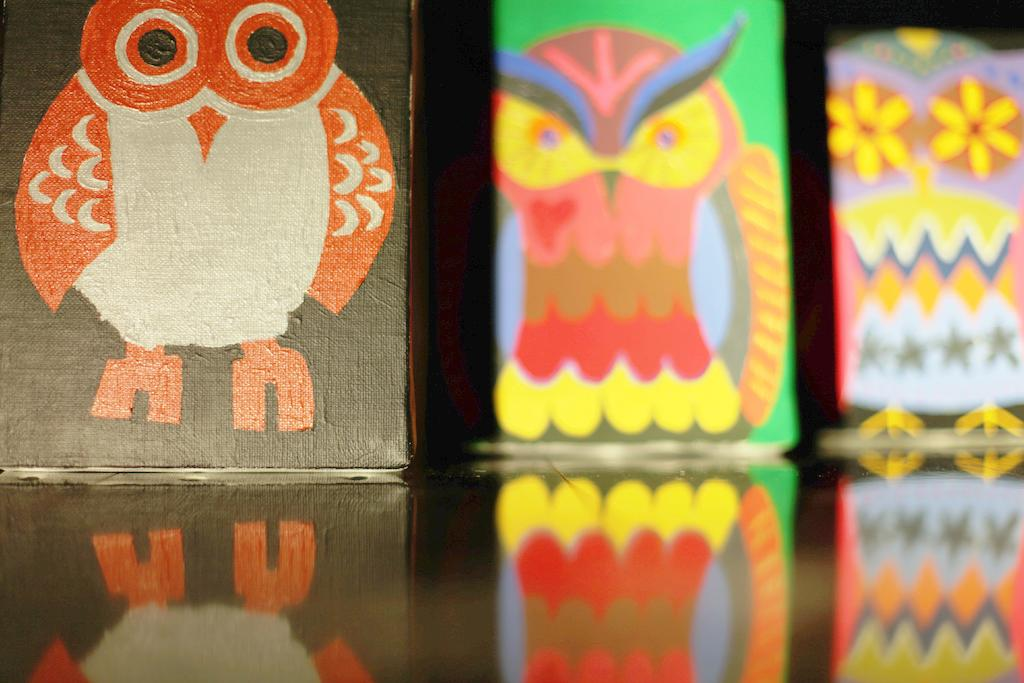Owl: (6, 1, 397, 434), (486, 19, 780, 442)
